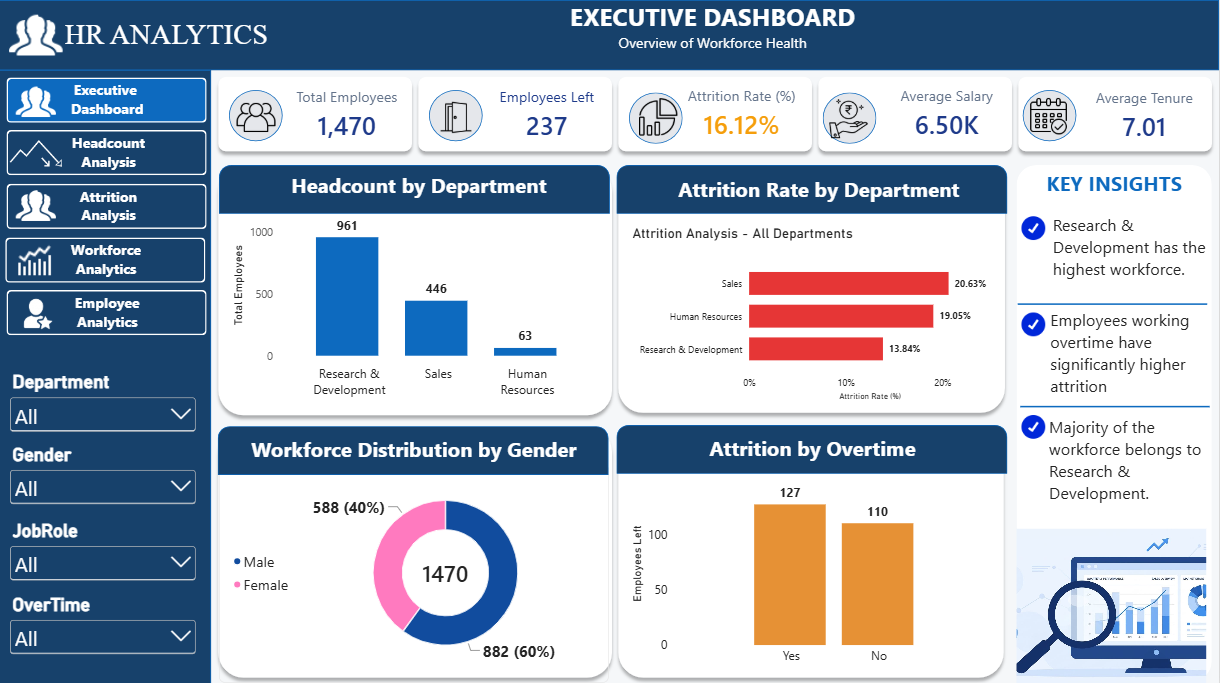

What the dashboard file says about the page in this screenshot:
{"tool":"powerbi","page":{"name":"EXECUTIVE DASHBOARD","canvas":[1600,900],"ordinal":0},"visuals":[{"type":"shape","box":[0,92.2,278.1,807.8],"z":0},{"type":"shape","box":[0,0,1600,92.2],"z":1000},{"type":"shape","box":[278.1,92.2,271.9,115.6],"z":2000},{"type":"shape","box":[540.6,92.2,271.9,115.6],"z":3000},{"type":"shape","box":[803.1,92.2,271.9,115.6],"z":4000},{"type":"shape","box":[1065.6,92.2,271.9,115.6],"z":5000},{"type":"shape","box":[1328.1,92.2,271.9,115.6],"z":6000},{"type":"shape","box":[278.1,207.8,534.4,345.3],"z":7000},{"type":"shape","box":[803.1,207.8,525,342.2],"z":8000},{"type":"shape","box":[9.4,170.3,262.5,59.4],"z":9000},{"type":"shape","box":[278.1,550,534.4,346.9],"z":10000},{"type":"shape","box":[803.1,550,523.4,346.9],"z":11000},{"type":"shape","box":[1334.4,215.6,256.2,676.6],"z":12000},{"type":"cardVisual","fields":{"Data":["_Measures.Total Employees"]},"box":[371.9,101.6,168.8,98.4],"z":13000},{"type":"cardVisual","fields":{"Data":["_Measures.Employees Left"]},"box":[634.4,101.6,168.8,98.4],"z":14000},{"type":"cardVisual","fields":{"Data":["_Measures.Attrition Rate"]},"box":[881.2,100,184.4,98.4],"z":15000},{"type":"cardVisual","fields":{"Data":["_Measures.Average Salary"]},"box":[1159.4,100,168.8,98.4],"z":16000},{"type":"cardVisual","fields":{"Data":["_Measures.Average Tenure"]},"box":[1418.8,103.1,168.8,98.4],"z":17000},{"type":"shape","box":[301.6,118.8,70.3,67.2],"z":18000},{"type":"shape","box":[564.1,118.8,70.3,67.2],"z":19000},{"type":"clusteredColumnChart","fields":{"Category":["HR Dataset.Department"],"Y":["_Measures.Total Employees"]},"box":[290.6,256.2,509.4,284.4],"z":20000},{"type":"clusteredBarChart","fields":{"Category":["HR Dataset.Department"],"Y":["_Measures.Attrition Rate"]},"box":[814.1,279.7,514.1,260.9],"z":21000},{"type":"donutChart","fields":{"Category":["HR Dataset.Gender"],"Y":["_Measures.Total Employees"]},"box":[289.1,607.8,510.9,287.5],"z":22000},{"type":"columnChart","fields":{"Category":["HR Dataset.OverTime"],"Y":["_Measures.Employees Left"]},"box":[812.5,607.8,509.4,284.4],"z":23000},{"type":"slicer","fields":{"Values":["HR Dataset.Department"]},"box":[9.4,487.5,253.1,82.8],"z":24000},{"type":"shape","box":[289.1,215.6,512.5,64.1],"z":25000},{"type":"shape","box":[809.4,217.2,512.5,64.1],"z":26000},{"type":"shape","box":[287.5,559.4,512.5,64.1],"z":27000},{"type":"shape","box":[809.4,557.8,512.5,64.1],"z":28000},{"type":"slicer","fields":{"Values":["HR Dataset.Gender"]},"box":[9.4,581.2,253.1,82.8],"z":29000},{"type":"slicer","fields":{"Values":["HR Dataset.JobRole"]},"box":[9.4,681.2,253.1,82.8],"z":30000},{"type":"slicer","fields":{"Values":["HR Dataset.OverTime"]},"box":[9.4,778.1,253.1,82.8],"z":31000},{"type":"shape","box":[9.4,240.6,262.5,59.4],"z":32000},{"type":"shape","box":[9.4,101.6,262.5,59.4],"z":33000},{"type":"shape","box":[7.8,310.9,262.5,59.4],"z":34000},{"type":"shape","box":[9.4,379.7,262.5,59.4],"z":35000},{"type":"textbox","box":[10.9,104.7,260.9,53.1],"z":36000},{"type":"textbox","box":[12.5,173.4,260.9,53.1],"z":37000},{"type":"textbox","box":[12.5,243.8,260.9,53.1],"z":38000},{"type":"textbox","box":[9.4,314.1,260.9,53.1],"z":39000},{"type":"textbox","box":[10.9,382.8,260.9,53.1],"z":40000},{"type":"textbox","box":[550,0,770.3,92.2],"z":41000},{"type":"textbox","box":[82.8,23.4,271.9,68.8],"z":42000},{"type":"textbox","box":[314.1,225,471.9,45.3],"z":43000},{"type":"textbox","box":[839.1,229.7,471.9,45.3],"z":44000},{"type":"textbox","box":[307.8,570.3,471.9,45.3],"z":45000},{"type":"textbox","box":[831.2,568.8,471.9,45.3],"z":46000},{"type":"textbox","box":[1337.5,221.9,250,45.3],"z":47000},{"type":"textbox","box":[1382,280.3,204.9,100],"z":48000},{"type":"textbox","box":[1378.7,404.9,204.9,121.3],"z":49000},{"type":"textbox","box":[1377,544.3,201.6,127.9],"z":50000},{"type":"shape","box":[1336.1,391.8,248.4,14.1],"z":51000},{"type":"shape","box":[1339.1,526.6,248.4,14.1],"z":52000},{"type":"image","box":[310.9,115.6,51.6,75],"z":53000},{"type":"image","box":[573.4,115.6,51.6,75],"z":54000},{"type":"image","box":[12.5,9.4,70.3,75],"z":55000},{"type":"image","box":[1339.1,282.8,34.4,31.2],"z":56000},{"type":"image","box":[1339.3,409.8,34.4,31.2],"z":57000},{"type":"image","box":[1339.1,543.8,34.4,31.2],"z":58000},{"type":"image","box":[12.5,173.4,70.3,53.1],"z":59000},{"type":"image","box":[12.5,243.8,70.3,53.1],"z":60000},{"type":"image","box":[10.9,314.1,70.3,53.1],"z":61000},{"type":"image","box":[12.5,382.8,70.3,53.1],"z":62000},{"type":"image","box":[12.5,107.8,70.3,53.1],"z":63000},{"type":"image","box":[1334.4,693.8,248.4,203.1],"z":64000},{"type":"shape","box":[826,122,70.3,67.2],"z":65000},{"type":"image","box":[840,122,50,64],"z":66000},{"type":"shape","box":[1079.7,120.8,70.3,67.2],"z":67000},{"type":"image","box":[1089,117.6,51.6,75],"z":68000},{"type":"shape","box":[1342.1,117.6,70.3,67.2],"z":69000},{"type":"image","box":[1351.4,114.4,51.6,75],"z":70000},{"type":"actionButton","box":[13.1,170.5,257.4,59],"z":70001},{"type":"actionButton","box":[6.6,241,264.7,58.8],"z":70002},{"type":"actionButton","box":[9.8,311.5,264.7,58.8],"z":70003},{"type":"actionButton","box":[6.6,380.3,264.7,58.8],"z":70004}]}

Visuals, with their boxes in screenshot pixels (x1, y1, x2, y2), scaled from the page's 1600x900 canvas onto the 1220x683 screenshot:
shape: locate(0, 70, 212, 682)
shape: locate(0, 0, 1219, 70)
shape: locate(212, 70, 419, 158)
shape: locate(412, 70, 620, 158)
shape: locate(612, 70, 820, 158)
shape: locate(813, 70, 1020, 158)
shape: locate(1013, 70, 1219, 158)
shape: locate(212, 158, 620, 420)
shape: locate(612, 158, 1013, 417)
shape: locate(7, 129, 207, 174)
shape: locate(212, 417, 620, 681)
shape: locate(612, 417, 1011, 681)
shape: locate(1017, 164, 1213, 677)
cardVisual - _Measures.Total Employees: locate(284, 77, 412, 152)
cardVisual - _Measures.Employees Left: locate(484, 77, 612, 152)
cardVisual - _Measures.Attrition Rate: locate(672, 76, 813, 151)
cardVisual - _Measures.Average Salary: locate(884, 76, 1013, 151)
cardVisual - _Measures.Average Tenure: locate(1082, 78, 1211, 153)
shape: locate(230, 90, 284, 141)
shape: locate(430, 90, 484, 141)
clusteredColumnChart - HR Dataset.Department x _Measures.Total Employees: locate(222, 194, 610, 410)
clusteredBarChart - HR Dataset.Department x _Measures.Attrition Rate: locate(621, 212, 1013, 410)
donutChart - HR Dataset.Gender x _Measures.Total Employees: locate(220, 461, 610, 679)
columnChart - HR Dataset.OverTime x _Measures.Employees Left: locate(620, 461, 1008, 677)
slicer - HR Dataset.Department: locate(7, 370, 200, 433)
shape: locate(220, 164, 611, 212)
shape: locate(617, 165, 1008, 213)
shape: locate(219, 425, 610, 473)
shape: locate(617, 423, 1008, 472)
slicer - HR Dataset.Gender: locate(7, 441, 200, 504)
slicer - HR Dataset.JobRole: locate(7, 517, 200, 580)
slicer - HR Dataset.OverTime: locate(7, 590, 200, 653)
shape: locate(7, 183, 207, 228)
shape: locate(7, 77, 207, 122)
shape: locate(6, 236, 206, 281)
shape: locate(7, 288, 207, 333)
textbox: locate(8, 79, 207, 120)
textbox: locate(10, 132, 208, 172)
textbox: locate(10, 185, 208, 225)
textbox: locate(7, 238, 206, 279)
textbox: locate(8, 291, 207, 331)
textbox: locate(419, 0, 1007, 70)
textbox: locate(63, 18, 270, 70)
textbox: locate(240, 171, 599, 205)
textbox: locate(640, 174, 1000, 209)
textbox: locate(235, 433, 595, 467)
textbox: locate(634, 432, 994, 466)
textbox: locate(1020, 168, 1210, 203)
textbox: locate(1054, 213, 1210, 289)
textbox: locate(1051, 307, 1207, 399)
textbox: locate(1050, 413, 1204, 510)
shape: locate(1019, 297, 1208, 308)
shape: locate(1021, 400, 1210, 410)
image: locate(237, 88, 276, 145)
image: locate(437, 88, 477, 145)
image: locate(10, 7, 63, 64)
image: locate(1021, 215, 1047, 238)
image: locate(1021, 311, 1047, 335)
image: locate(1021, 413, 1047, 436)
image: locate(10, 132, 63, 172)
image: locate(10, 185, 63, 225)
image: locate(8, 238, 62, 279)
image: locate(10, 291, 63, 331)
image: locate(10, 82, 63, 122)
image: locate(1017, 527, 1207, 681)
shape: locate(630, 93, 683, 144)
image: locate(640, 93, 679, 141)
shape: locate(823, 92, 877, 143)
image: locate(830, 89, 870, 146)
shape: locate(1023, 89, 1077, 140)
image: locate(1030, 87, 1070, 144)
actionButton: locate(10, 129, 206, 174)
actionButton: locate(5, 183, 207, 228)
actionButton: locate(7, 236, 209, 281)
actionButton: locate(5, 289, 207, 333)
